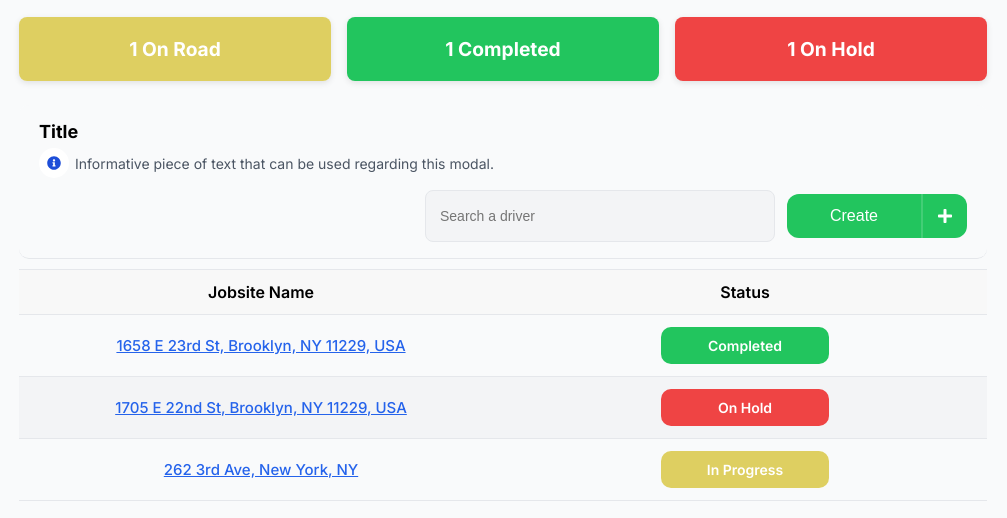
it: JobSitesPage › filters job sites based on input
Step 1. Type "262" into the field with placeholder "Search a driver" → (600, 216), box [425,190,775,242]
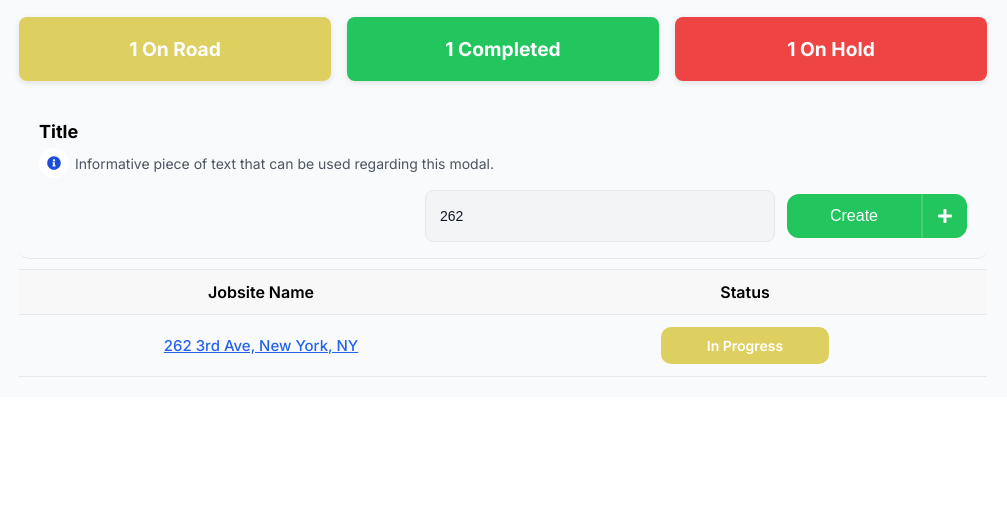
Expected: the text "262 3rd Ave, New York, NY" is shown, [19,314,503,376]
Result: the text "1705 E 22nd St" is gone
